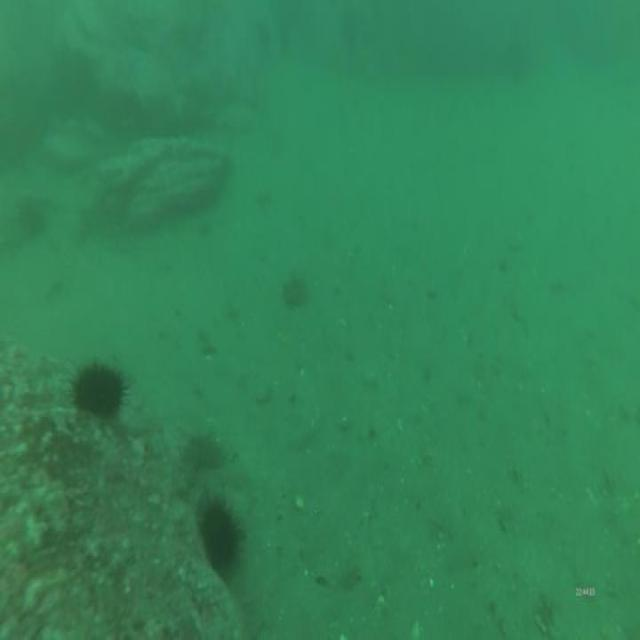echinus: (193, 487, 243, 586), (69, 354, 129, 427), (280, 264, 312, 313), (15, 198, 47, 240)
holothurian: (174, 430, 230, 491)
